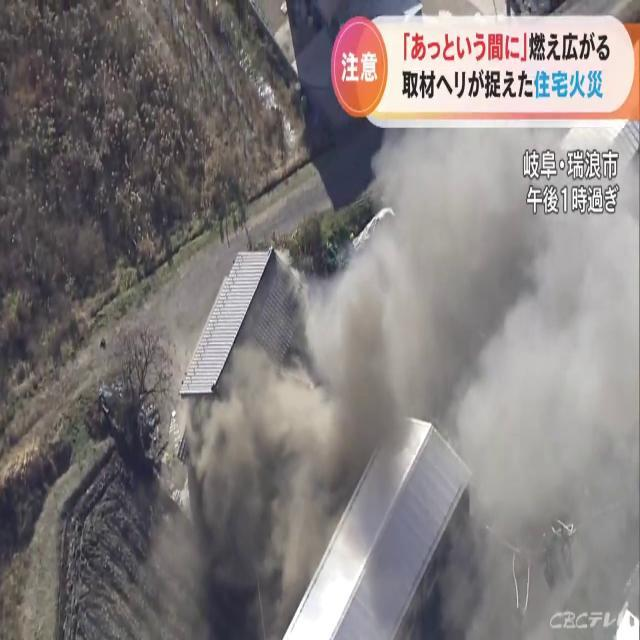Smoke: (306, 118, 638, 634)
